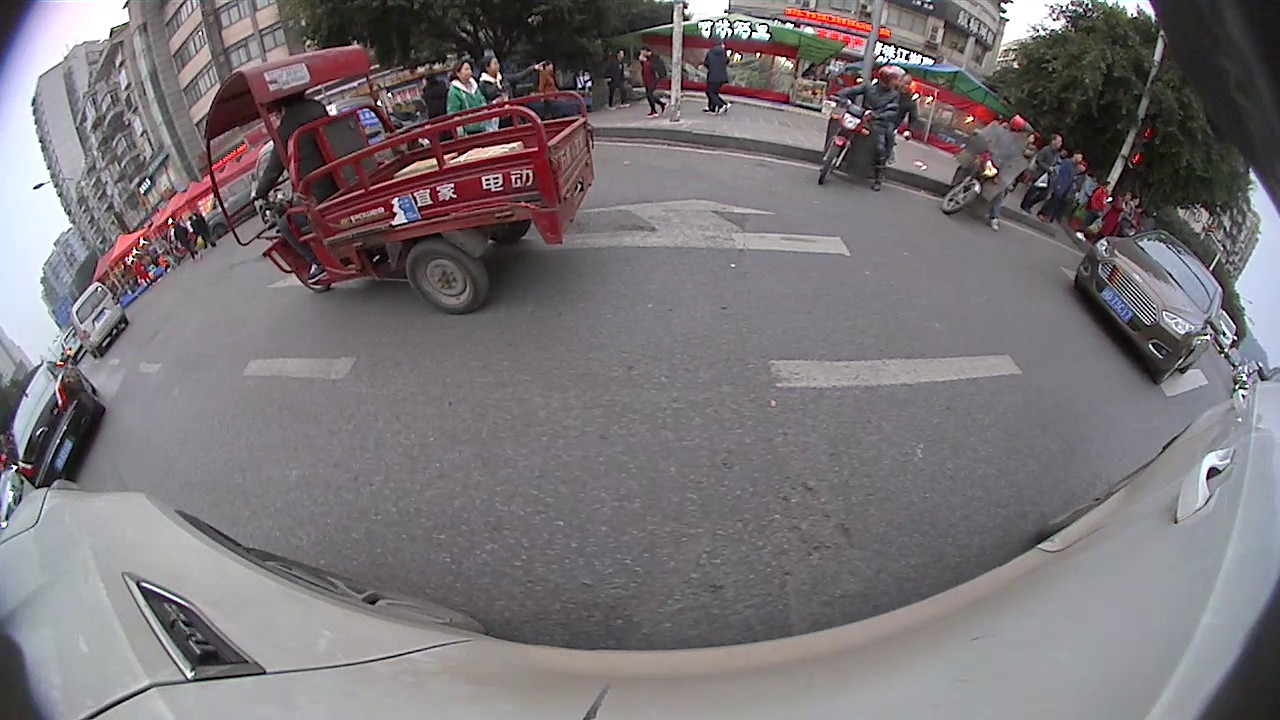car: (1072, 226, 1225, 384), (3, 357, 110, 490), (65, 278, 132, 356)
front: (943, 173, 982, 217)
person: (706, 35, 729, 118)
rear: (400, 237, 490, 318)
rider: (201, 42, 597, 317), (817, 49, 918, 187), (937, 116, 1035, 225)
